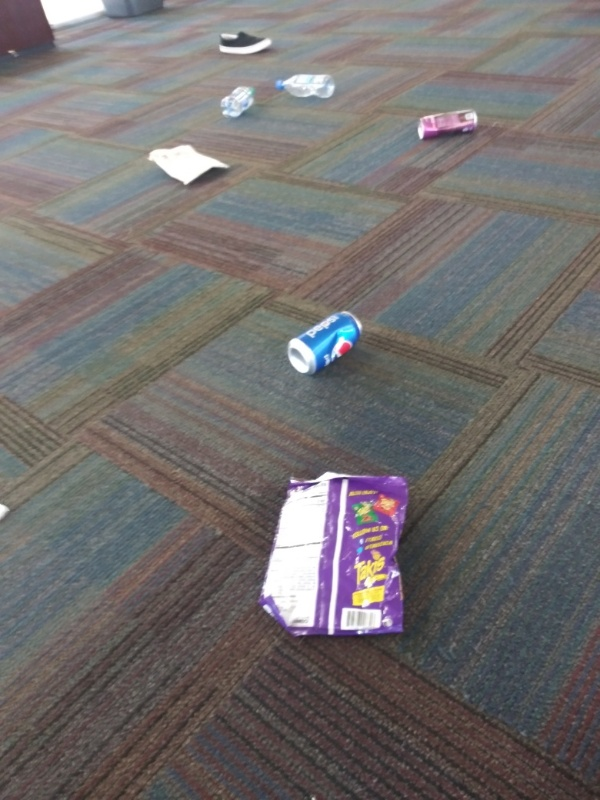bag: (256, 469, 410, 641), (147, 139, 238, 193)
bottle: (270, 68, 341, 106), (215, 81, 260, 123)
can: (281, 306, 370, 378), (413, 105, 484, 147)
